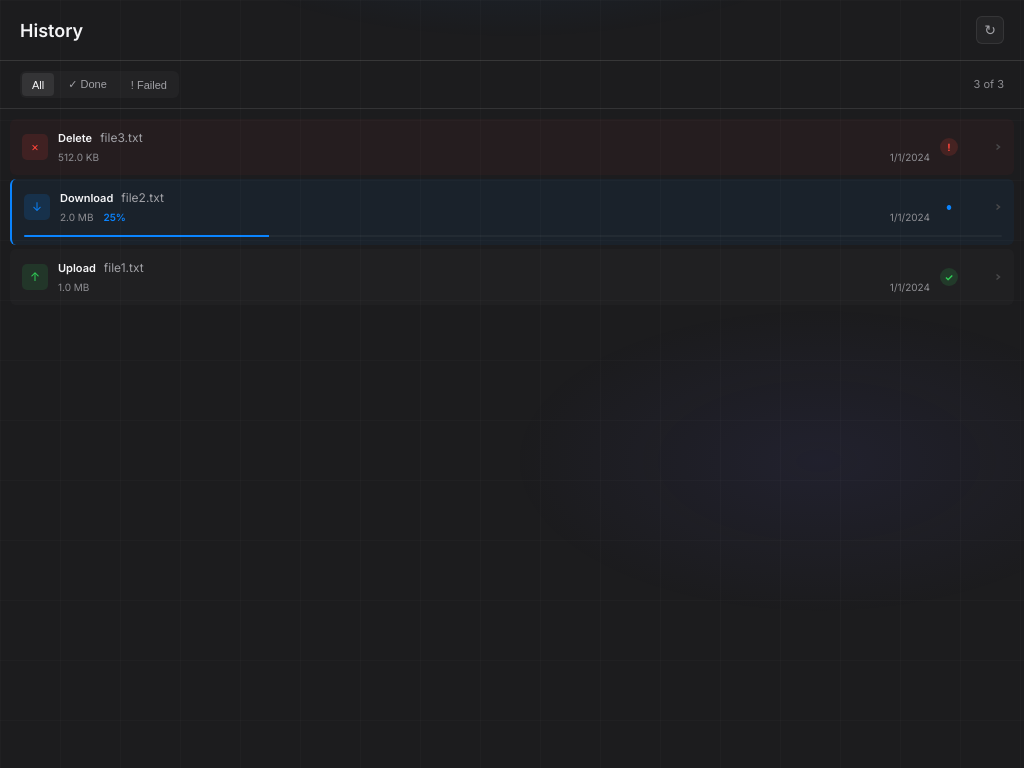
it: OperationHistory › Filtering › should filter to show only completed operations
The width and height of the screenshot is (1024, 768).
Expected: the text "file1.txt" is shown, [104,260,144,275]
Note: Click on Done filter
Click the button "✓ Done": (88, 84) [58,73,117,96]
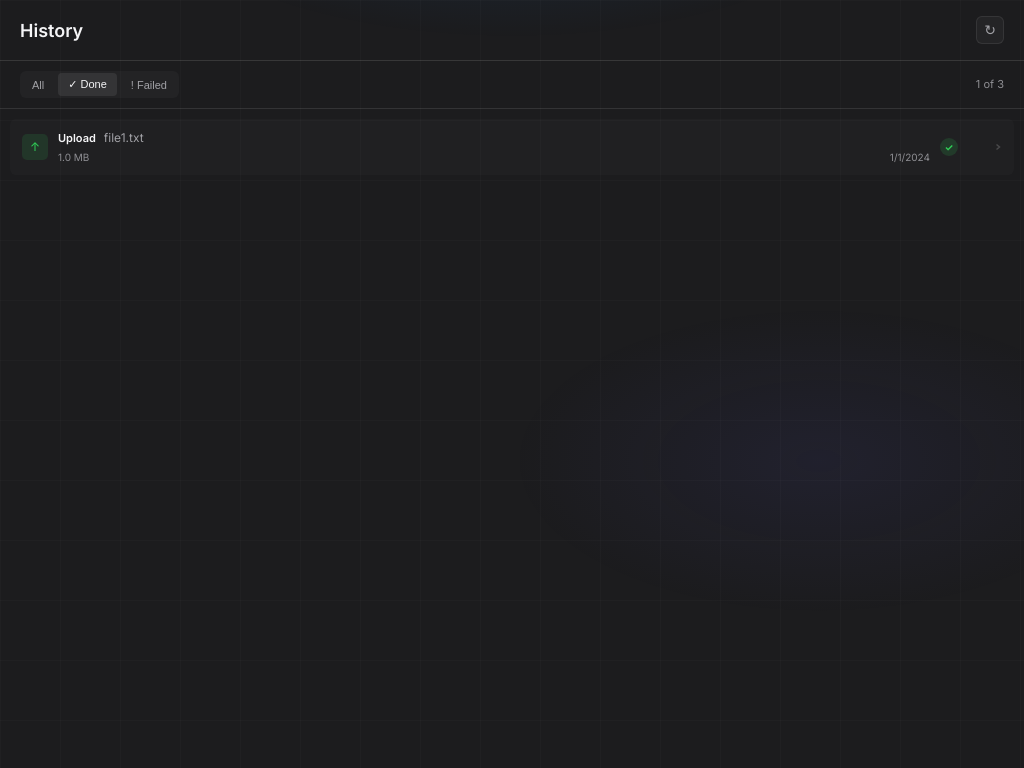
Expected: the text "file1.txt" is shown, [104,130,144,145]
Now the text "file3.txt" is gone
